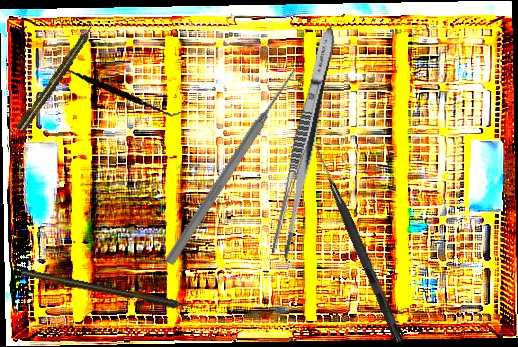Dressing Forceps: (268, 24, 341, 262)
Handpiece: (14, 20, 100, 134)
Hook Surgical: (308, 143, 407, 344), (20, 267, 203, 315)
Pusher: (162, 63, 303, 268)
Spatula Surgical: (47, 43, 185, 137)
